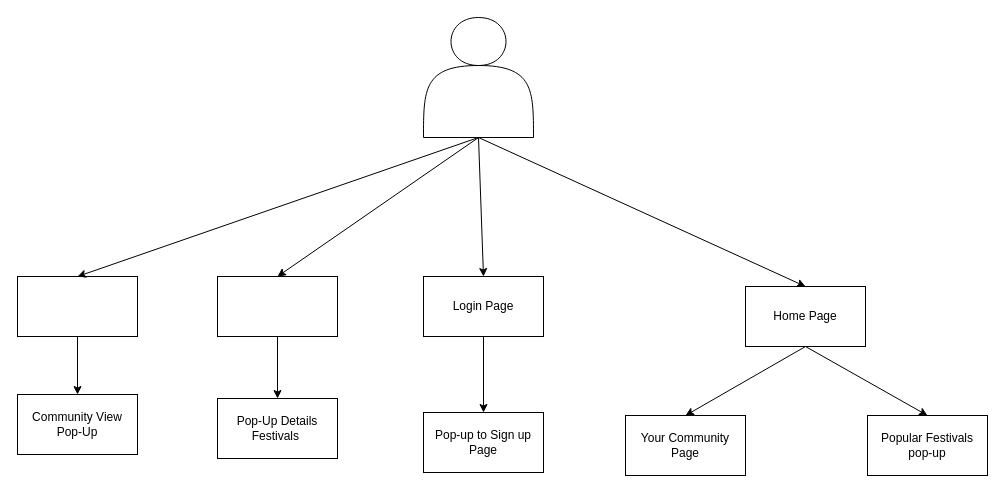
Some shapes in this 1005 by 493 pixel diagram are drawn without their labels. Each missing label, with the centre of its shape:
Communities Page: the point at 77,306
Explore Festivals: the point at 277,306
USER: the point at 478,77
